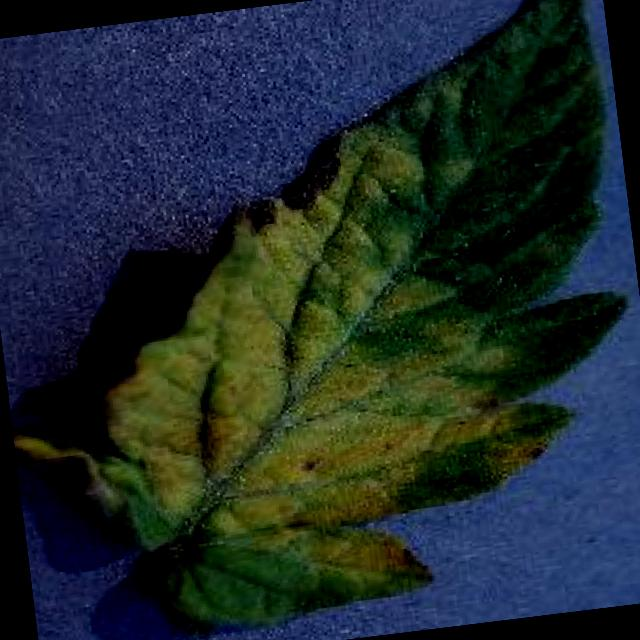leaf mold: (11, 0, 626, 625)
